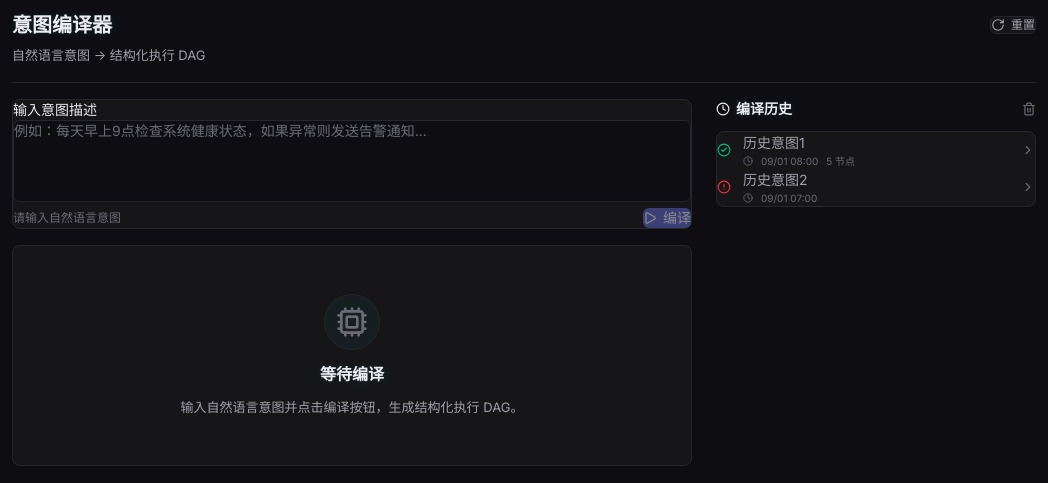
Test: IntentCompiler › history › fills input when history item is clicked
This screenshot has width=1048, height=483.
Expected: the number of buttons with test id "history-item" is 2, [717,132,1035,168]; [717,168,1035,206]
Click the text "历史意图1" at (774, 142), box [743,134,805,150]
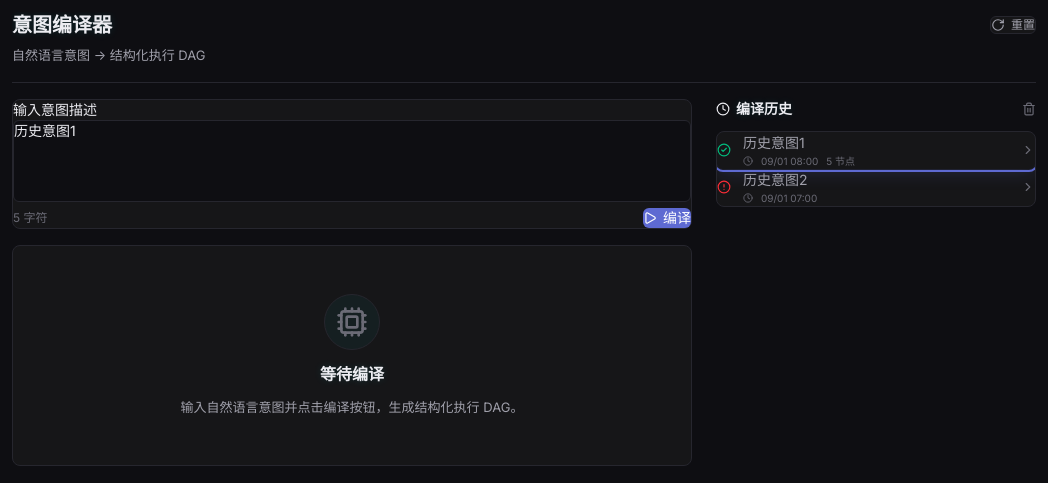
Expected: the text box with test id "intent-input" holds "历史意图1", [13,120,691,202]
